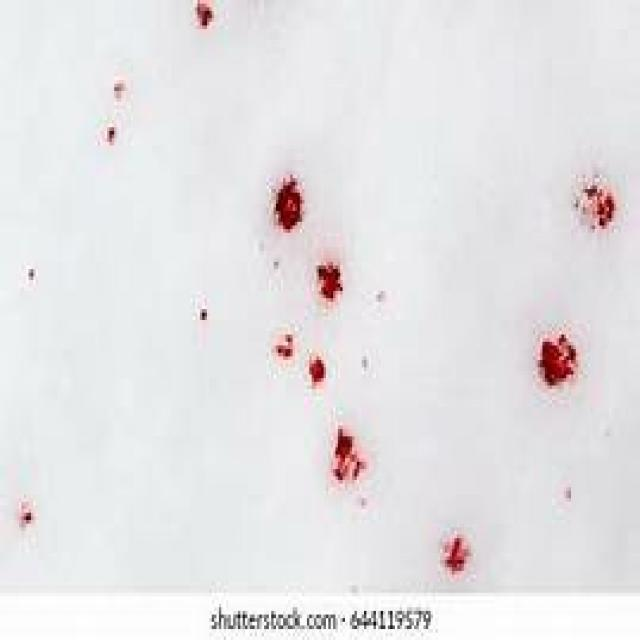wound: (498, 304, 608, 414), (300, 408, 398, 506), (253, 316, 367, 399), (252, 163, 334, 257), (552, 153, 630, 249), (293, 251, 373, 322), (420, 513, 490, 581), (154, 0, 248, 39)
